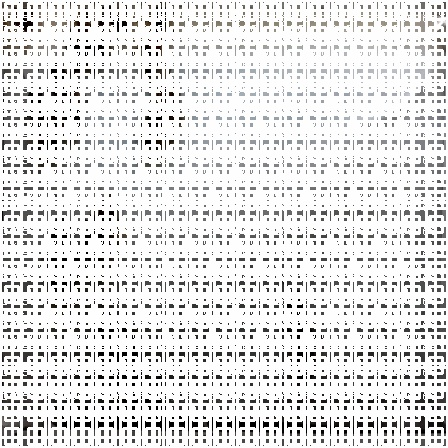bee: (265, 275, 332, 390), (70, 303, 157, 385), (73, 165, 132, 283), (128, 77, 199, 167), (29, 199, 84, 312), (35, 43, 92, 150), (13, 71, 64, 178), (126, 2, 179, 91), (59, 8, 112, 86)
